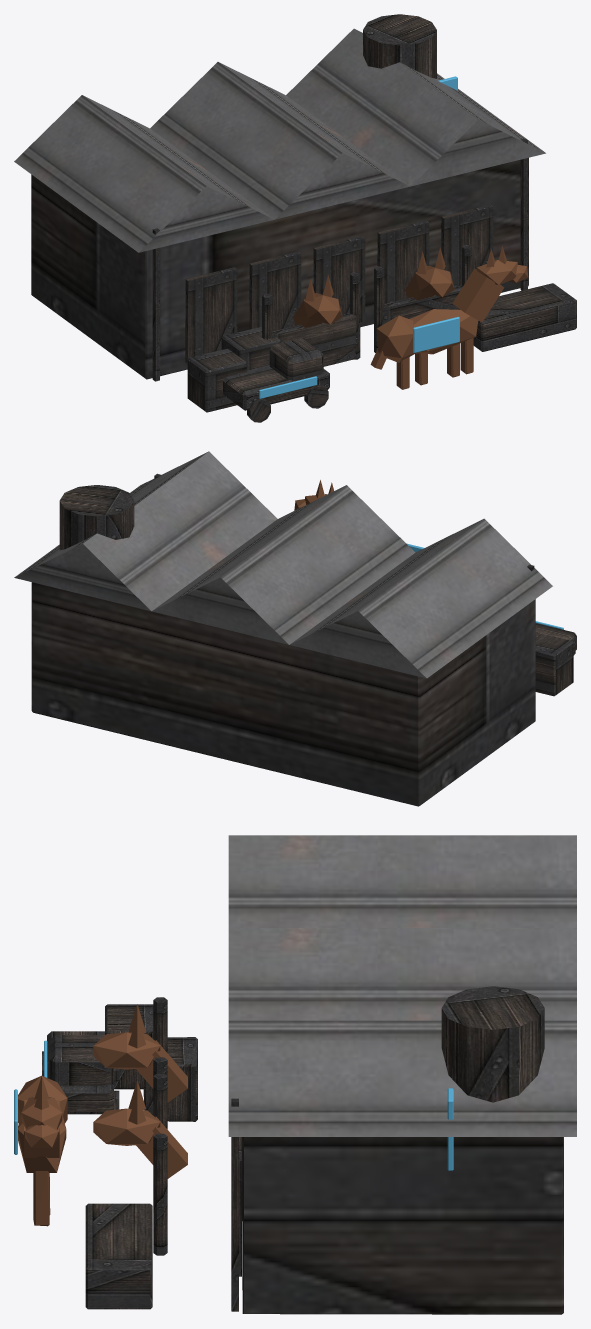
The model's file is edificio-b_017-e4-CmaEcmVN.glb.
3 renders of one model, top to bottom at view 1: azimuth 30°, elevation 25°; view 2: azimuth 150°, elevation 25°; view 3: azimuth 270°, elevation 25°, orthographic. The views are drawn at different scales.
Visible parts, largest first — view 1: envolvente_establo, caballos_establo, team_color; view 2: envolvente_establo; view 3: envolvente_establo, caballos_establo, team_color.
Boxes of the visible parts, x1,y1,x2,y2 form: envolvente_establo: [14, 14, 576, 422]; caballos_establo: [292, 246, 528, 389]; team_color: [259, 76, 459, 398]; envolvente_establo: [14, 451, 576, 806]; envolvente_establo: [42, 835, 576, 1314]; caballos_establo: [18, 1004, 187, 1226]; team_color: [14, 1040, 453, 1170].
Bounding box in the file's own units: 51 × 24.05 × 43.66.
3 materials, 1 textured.
